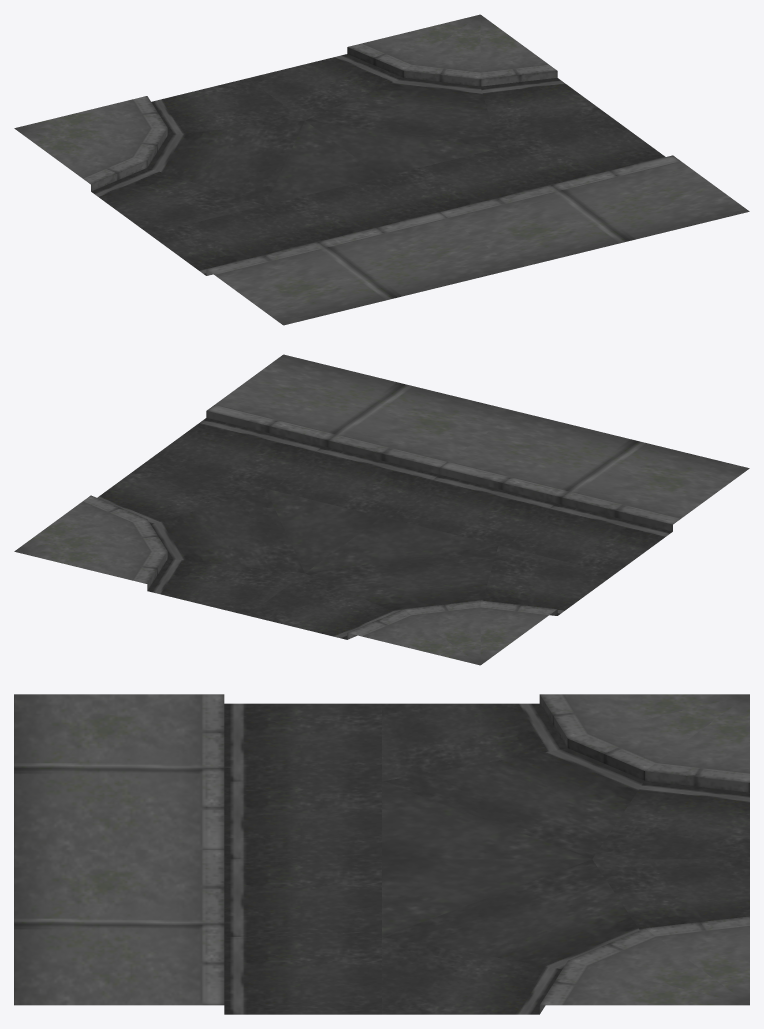
The model's file is road2b.fbx.
The picture shows the model from 3 angles, top to bottom: view 1: azimuth 30°, elevation 25°; view 2: azimuth 150°, elevation 25°; view 3: azimuth 270°, elevation 25°; orthographic projection. The views are drawn at different scales.
Parts seen in each view (by area): view 1: road2b; view 2: road2b; view 3: road2b.
Part boxes in pixels (box(x1,y1,x2,y2)): road2b: box(14, 14, 749, 325); road2b: box(14, 354, 749, 665); road2b: box(14, 694, 749, 1014).
Size of the model in its own units: 1400 by 1400 by 20.
Materials: 1 (1 with a texture image).
